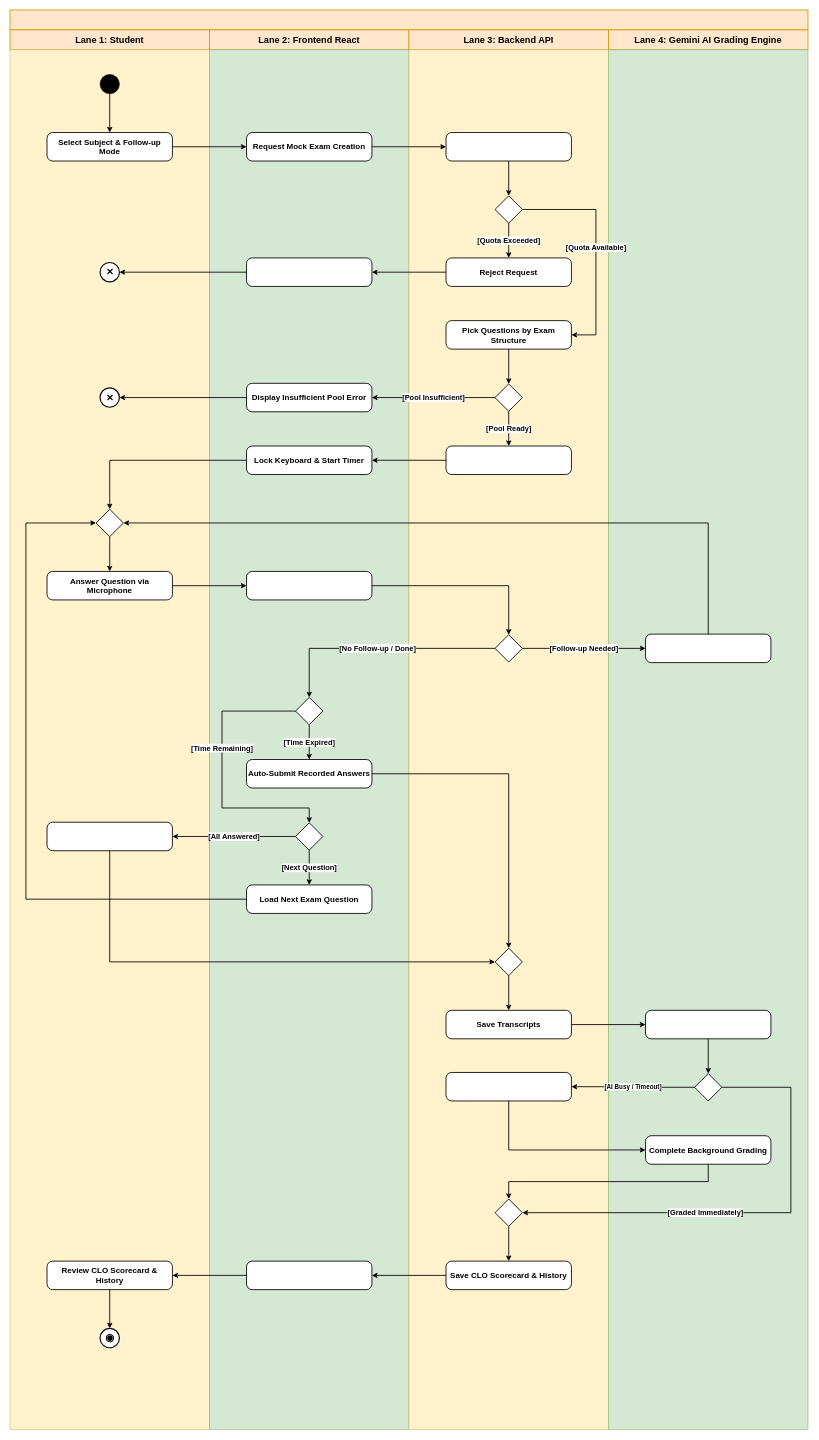
This 819x1440 diagram has some shape labels left out. The centre of each missing label's shape, as x and y in pixels:
Check Daily Mock Exam Quota: the point at 508,146
Confirm & Submit Mock Exam: the point at 109,836
Create Mock Exam & Deduct Quota: the point at 508,460
Display Detailed CLO Scorecard: the point at 309,1275
Display Quota Exceeded Alert: the point at 309,272
Generate Contextual Follow-up: the point at 708,648
Grade Answered Questions by CLO: the point at 708,1024
MF-02: Timed Mock Exam Process: the point at 408,19
Queue Background Grading: the point at 508,1086
Transcribe & Review Tech Terms: the point at 309,585
